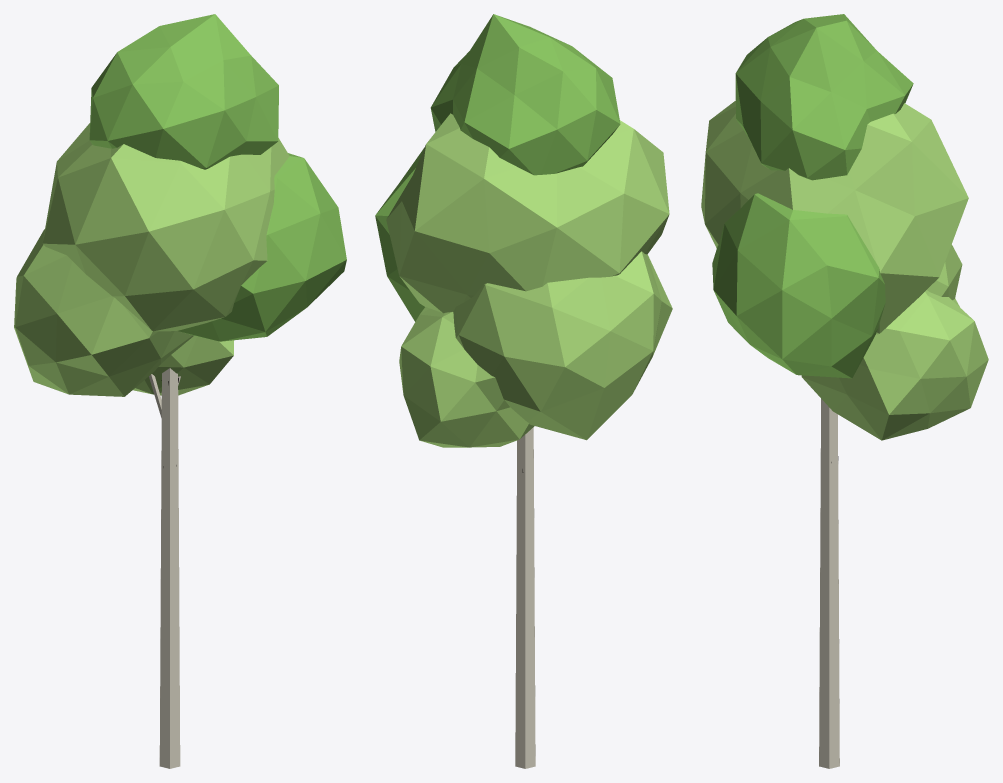
File: birch-b.glb
The picture shows the model from 3 angles, left to right: view 1: azimuth 30°, elevation 25°; view 2: azimuth 150°, elevation 25°; view 3: azimuth 270°, elevation 25°; orthographic projection. The views are drawn at different scales.
Parts seen in each view (by area): view 1: tree; view 2: tree; view 3: tree.
Boxes of the visible parts, left/top/right/bottom form: tree: left=14, top=14, right=346, bottom=768; tree: left=375, top=14, right=672, bottom=768; tree: left=701, top=14, right=988, bottom=768.
Bounding box in the file's own units: 4 × 9.72 × 3.35.
